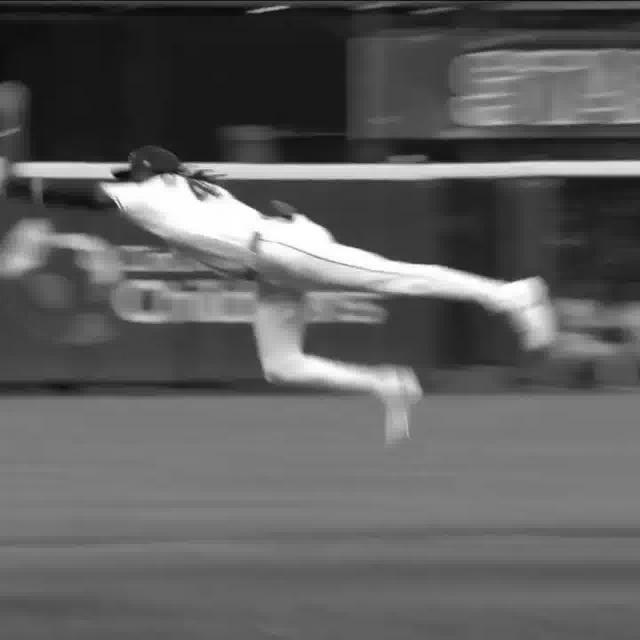shoe: (376, 366, 428, 445), (513, 275, 555, 346)
